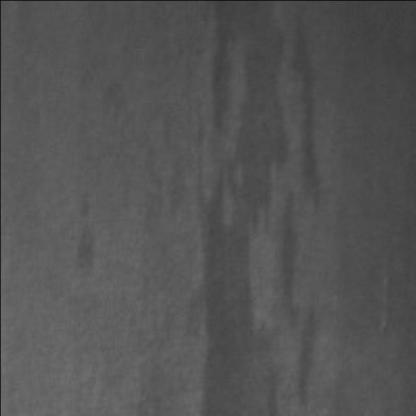inclusion: (195, 8, 327, 416), (69, 189, 112, 279)
